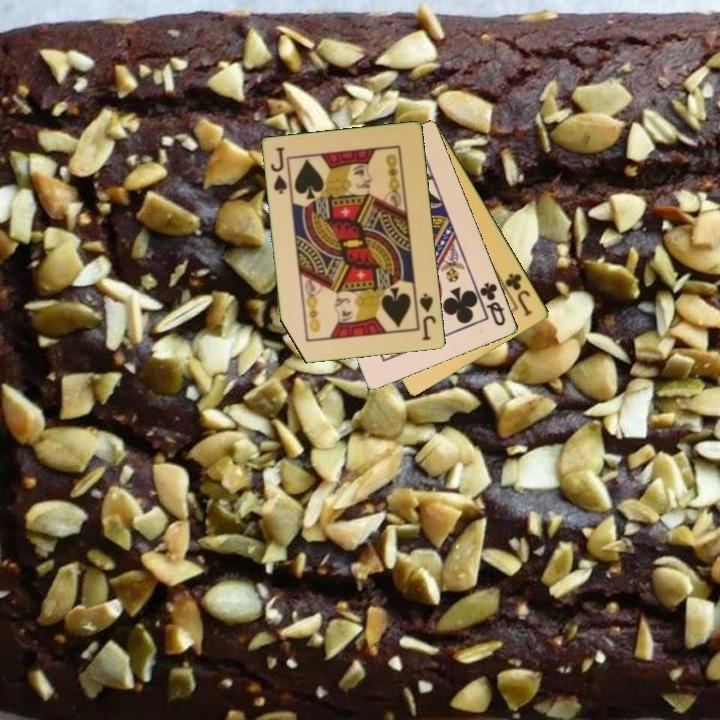Jc: (502, 270, 536, 319)
Js: (416, 290, 439, 344), (268, 144, 291, 197)
Qc: (473, 279, 509, 329)
